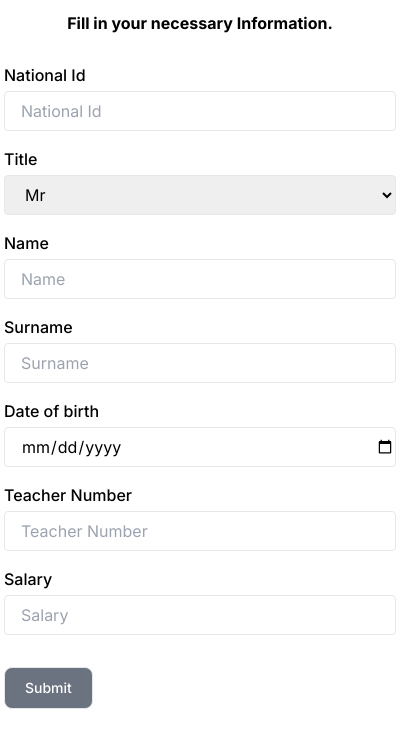
Test case: TeacherForm Page › displays validation errors when submit button is clicked
The width and height of the screenshot is (413, 740).
Click the button "Submit" at {"x": 48, "y": 688}, box [4, 667, 93, 709]
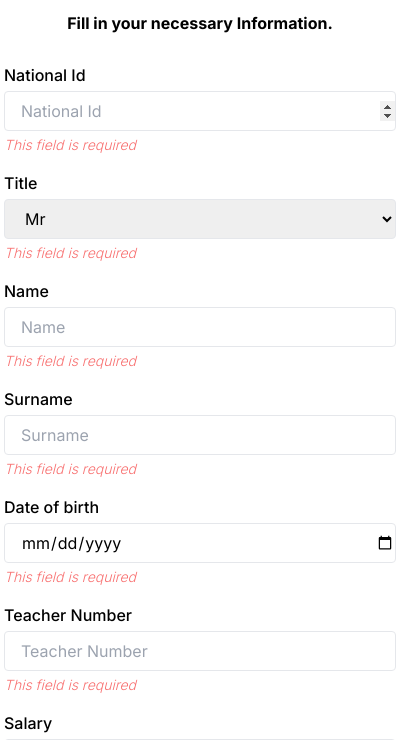
Result: the text "This field is required" is shown 7 times
